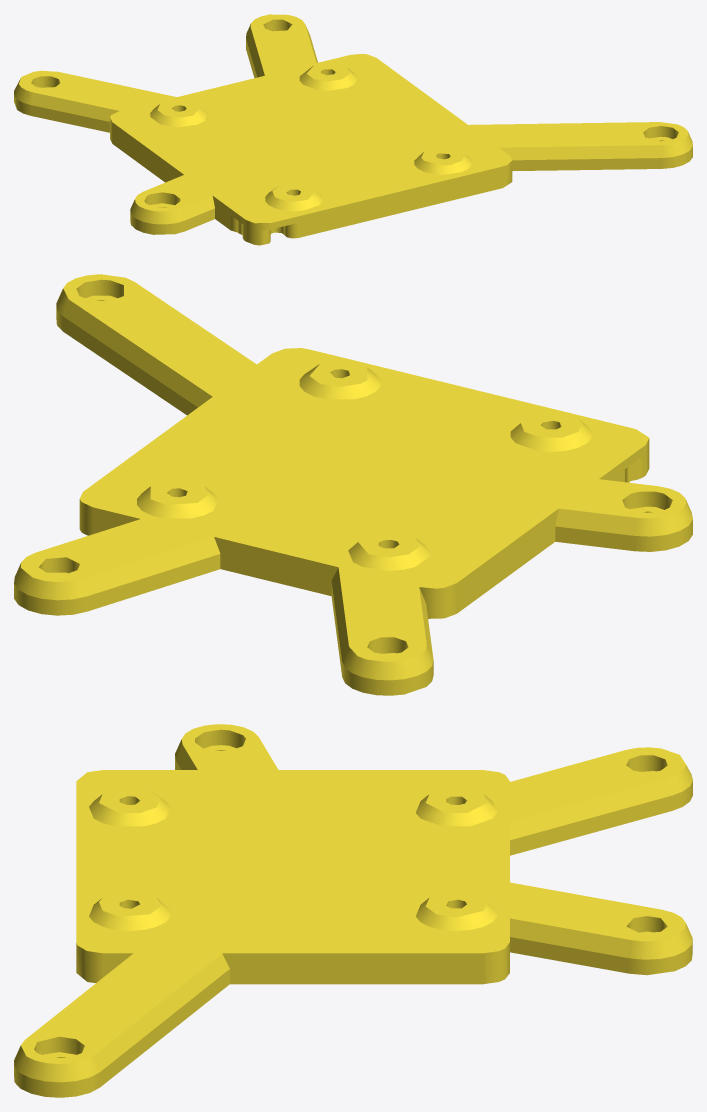
The model's file is lidar_right_mount.glb.
3 views of the same model, one above another, from view 1: azimuth 30°, elevation 25°; view 2: azimuth 150°, elevation 25°; view 3: azimuth 270°, elevation 25° (orthographic). The views are drawn at different scales.
Parts seen in each view (by area): view 1: Lidar Mount; view 2: Lidar Mount; view 3: Lidar Mount.
Boxes of the visible parts, <box> form: Lidar Mount: <box>14,14,692,245</box>; Lidar Mount: <box>14,274,692,695</box>; Lidar Mount: <box>14,724,692,1097</box>.
Size of the model in its own units: 0.1202 by 0.0065 by 0.0997.
